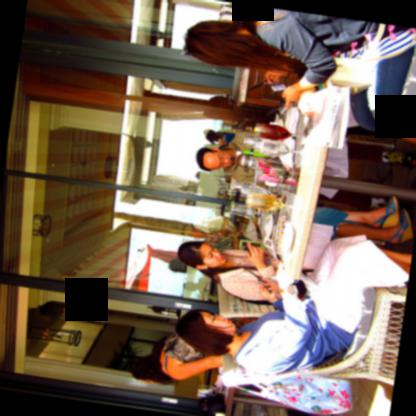handbag: (234, 376, 353, 413), (330, 55, 373, 88), (195, 393, 225, 416)
